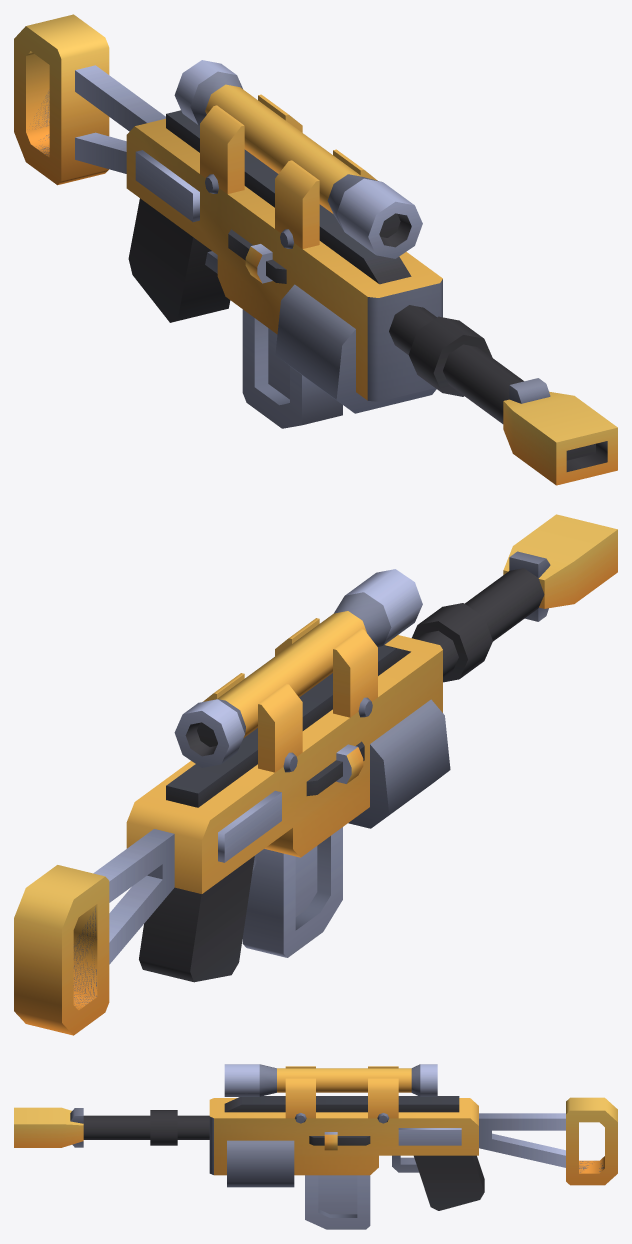
The model's file is weapon-smg.glb.
3 renders of one model, top to bottom at view 1: azimuth 30°, elevation 25°; view 2: azimuth 150°, elevation 25°; view 3: azimuth 270°, elevation 25°, orthographic. The views are drawn at different scales.
Parts seen in each view (by area): view 1: blaster-e, scope, magazine; view 2: blaster-e, scope, magazine; view 3: blaster-e, scope, magazine.
Part boxes in pixels (left/top/right/bottom): blaster-e: left=14, top=14, right=617, bottom=485; scope: left=174, top=60, right=422, bottom=258; magazine: left=242, top=309, right=342, bottom=428; blaster-e: left=14, top=514, right=617, bottom=1035; scope: left=174, top=569, right=422, bottom=772; magazine: left=242, top=827, right=342, bottom=957; blaster-e: left=14, top=1096, right=617, bottom=1210; scope: left=224, top=1064, right=437, bottom=1123; magazine: left=305, top=1175, right=370, bottom=1229.
Bounding box in the file's own units: 0.1192 × 0.29 × 0.9953.
1 material, 1 textured.
